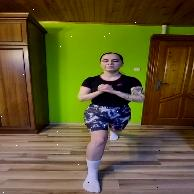lunges: (64, 47, 146, 183)
